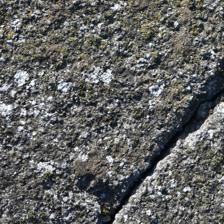Crack: (52, 36, 169, 185)
